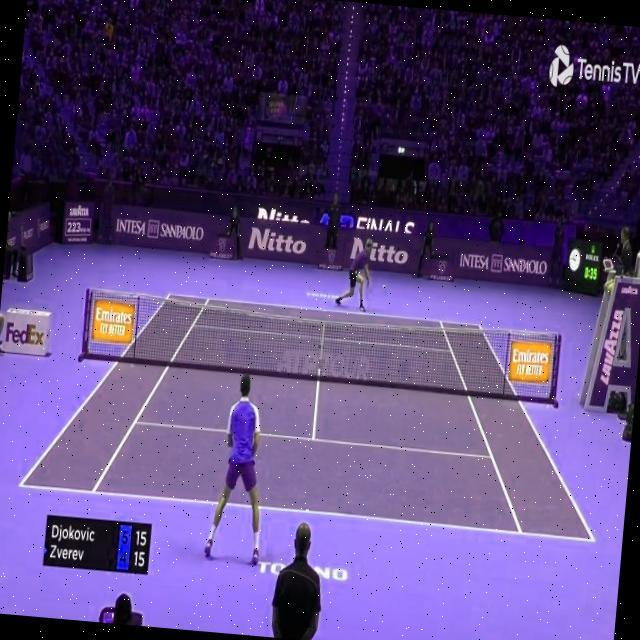court: (16, 280, 614, 542)
net: (80, 289, 562, 401)
player: (203, 370, 275, 564)
